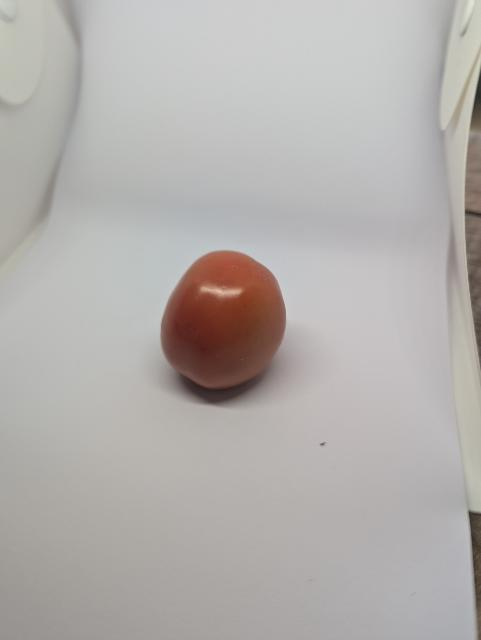red: (155, 246, 294, 402)
